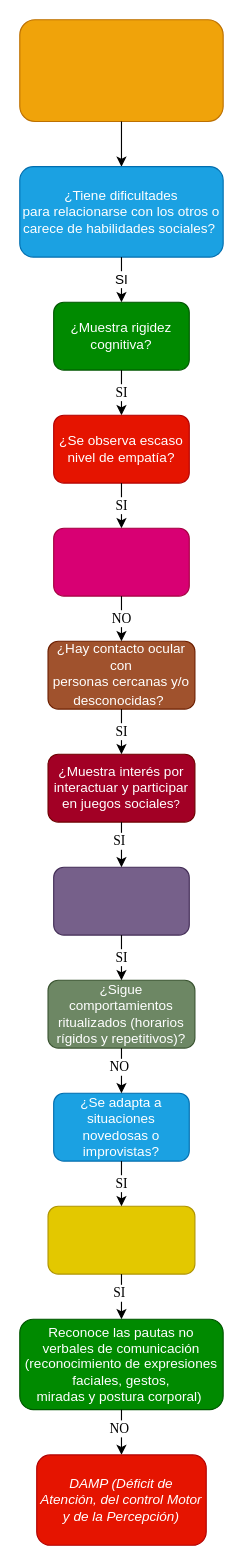
Image size: 243x1565. Some labels were removed from this diagram. The shapes that lost their labels are listed below. From the top down, each one's box as (x1, y1, x2, y2) in pixels, then its label:
(19, 19, 223, 121): Reconocimiento de Transtornos en niños
(53, 527, 189, 596): ¿Hay poca espontaneidad?
(53, 866, 189, 935): ¿Posee intereses restringidos?
(47, 1205, 195, 1274): ¿Se observa hiper o hiporreactividad a estímulos sensoriales?
